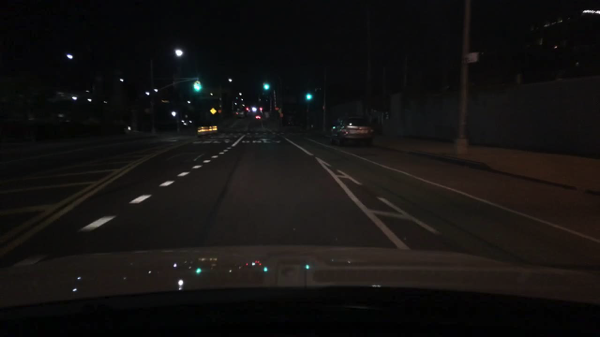car: (330, 116, 373, 147), (236, 108, 246, 118), (255, 114, 261, 120)
traffic light: (305, 90, 312, 102), (195, 81, 201, 92), (170, 110, 178, 118), (264, 80, 270, 90)
traffic sign: (462, 52, 477, 65), (208, 106, 217, 116), (160, 97, 169, 103)
